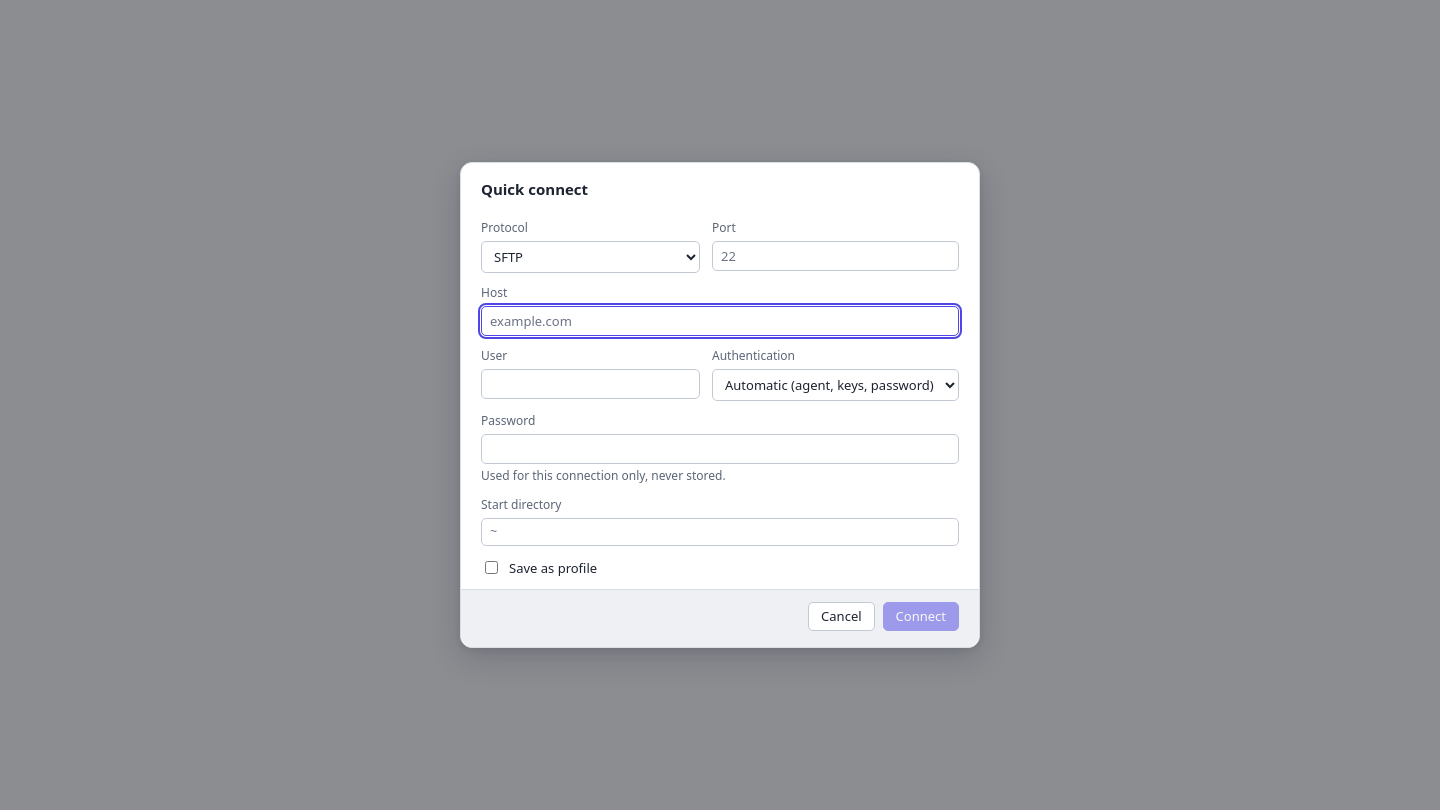
Test: ConnectionDialog › shows backend errors and warns about plain FTP
Step 1. Select "FTP (unencrypted)" in the dropdown labelled "Protocol" → point(590, 257), box [481,241,700,273]
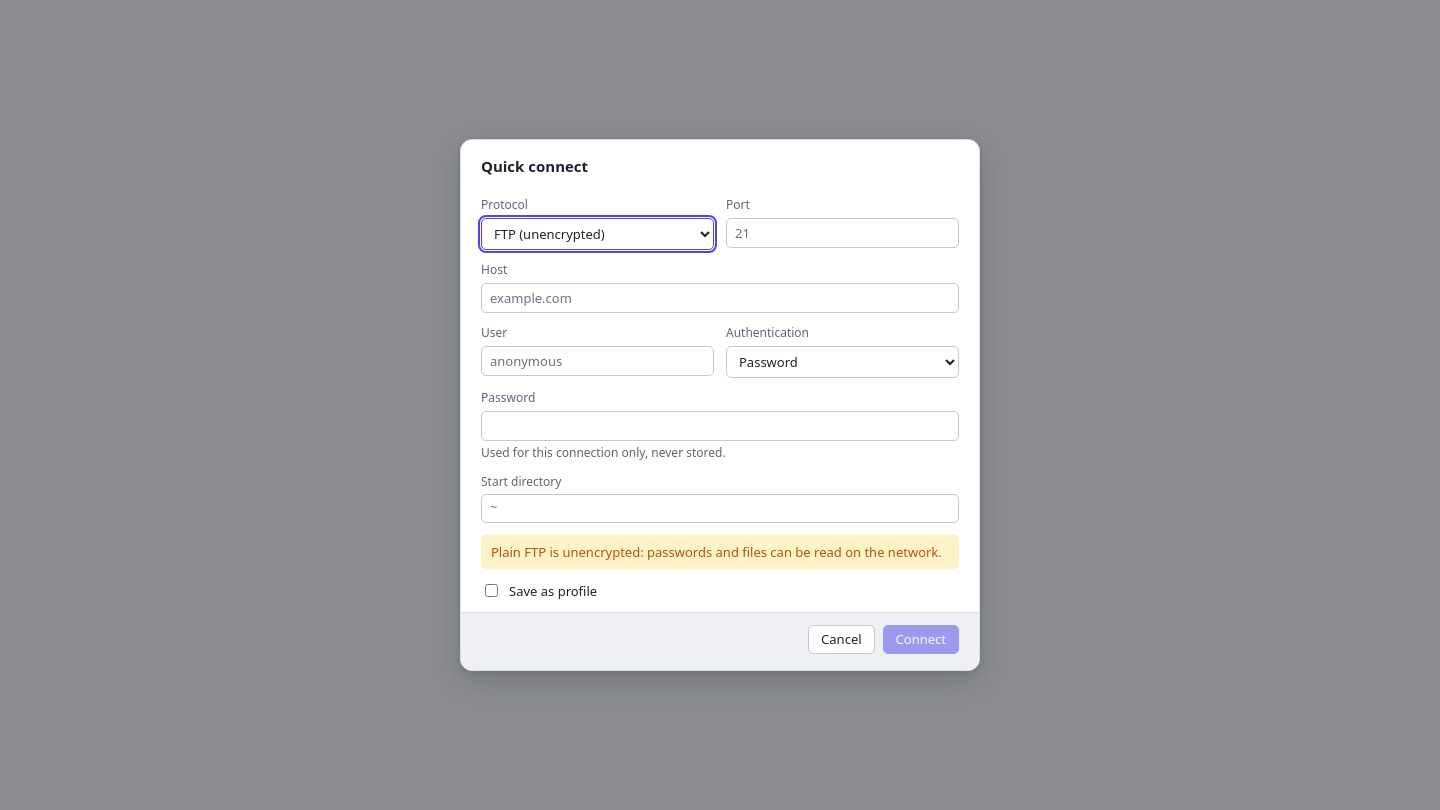
Expected: the text "unencrypted" is shown, [491,543,942,561]
Step 2. Type "ftp.example.com" into the field labelled "Host" → point(720, 298), box [481,283,959,313]
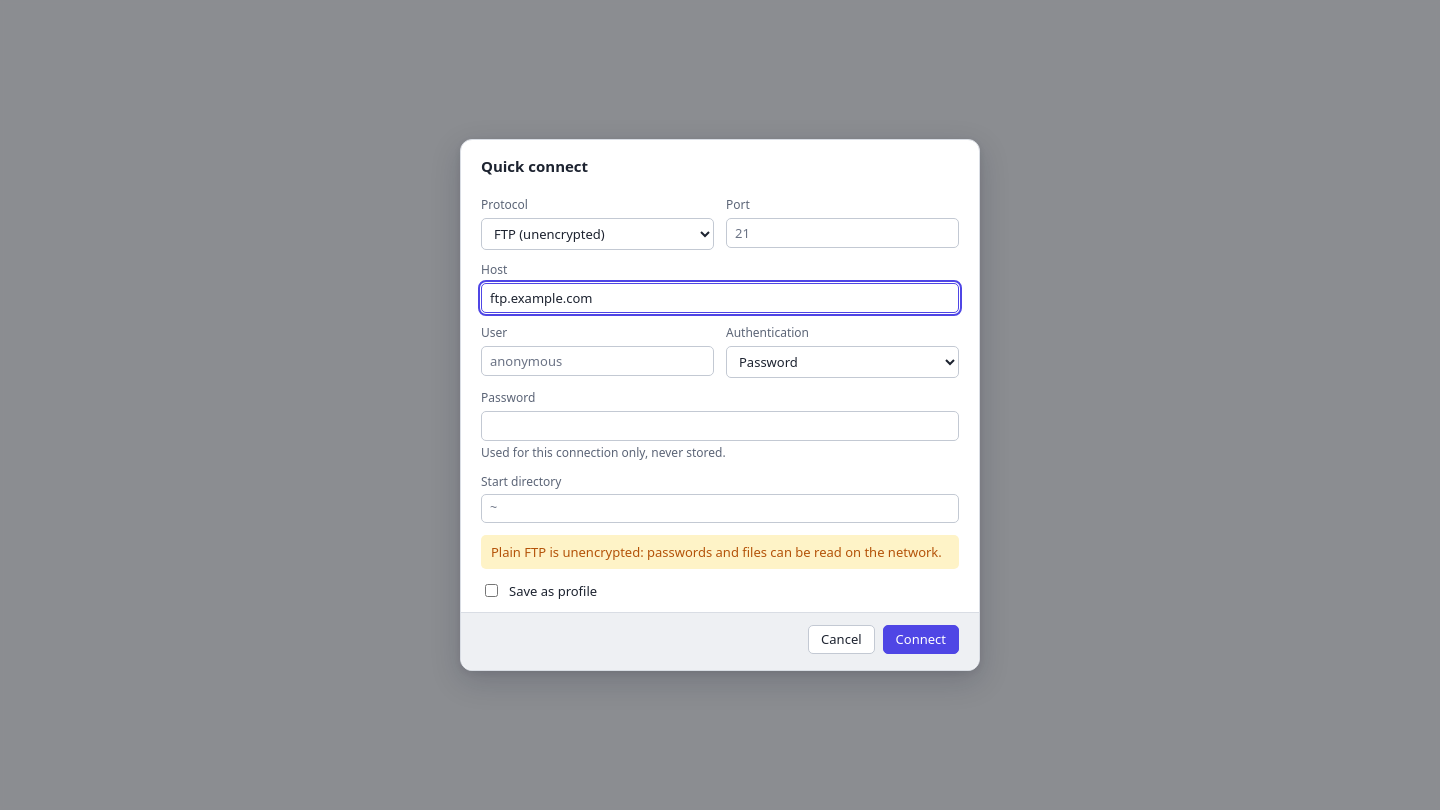
Step 3. Click the button "Connect" → point(921, 640), box [883,626,959,654]
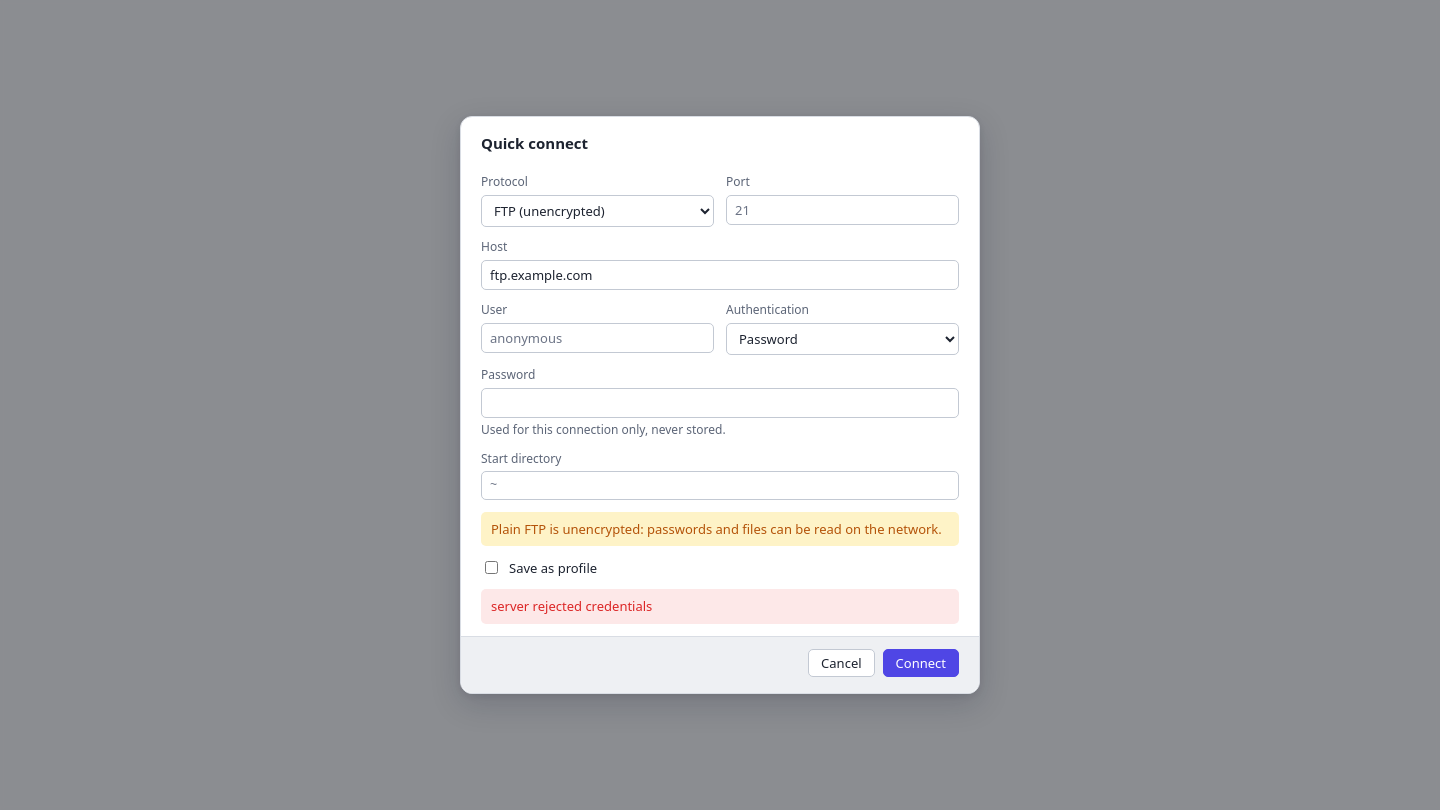
Expected: the message reads "server rejected credentials", [491,597,652,615]
